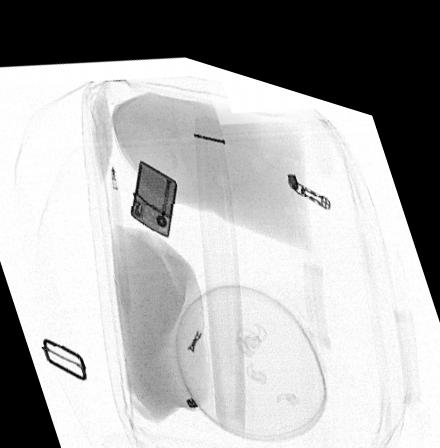Lighter: (130, 150, 177, 227)
